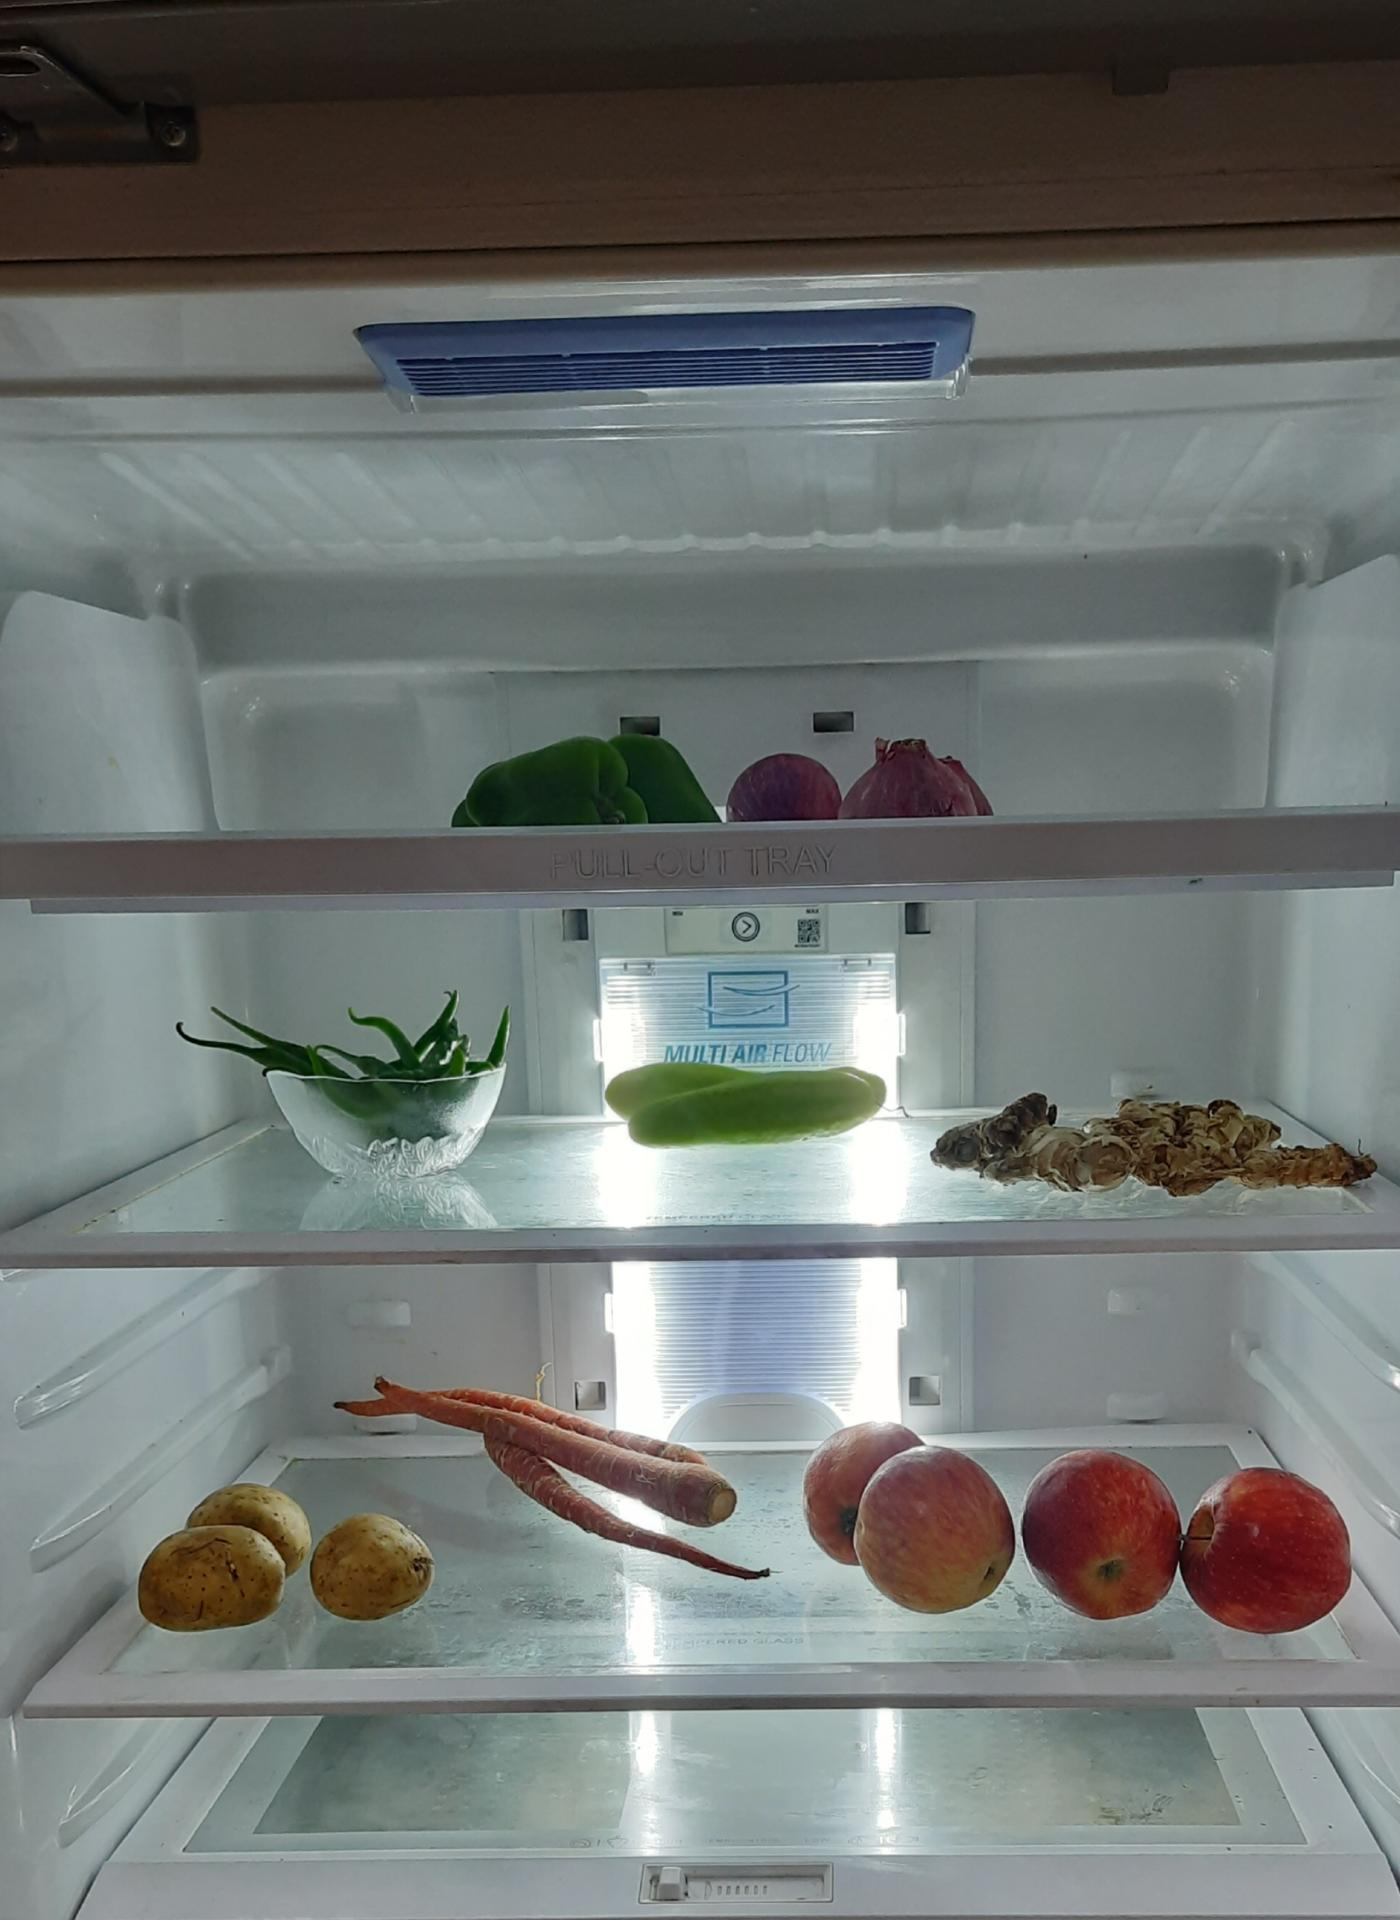apple: (805, 1431, 1345, 1632)
capsicum: (452, 719, 729, 832)
carrots: (325, 1361, 763, 1577)
chillies: (177, 991, 513, 1139)
cucumber: (593, 1054, 901, 1139)
ginger: (932, 1090, 1381, 1197)
onion: (731, 735, 991, 823)
potato: (131, 1483, 315, 1635), (306, 1519, 447, 1631)
